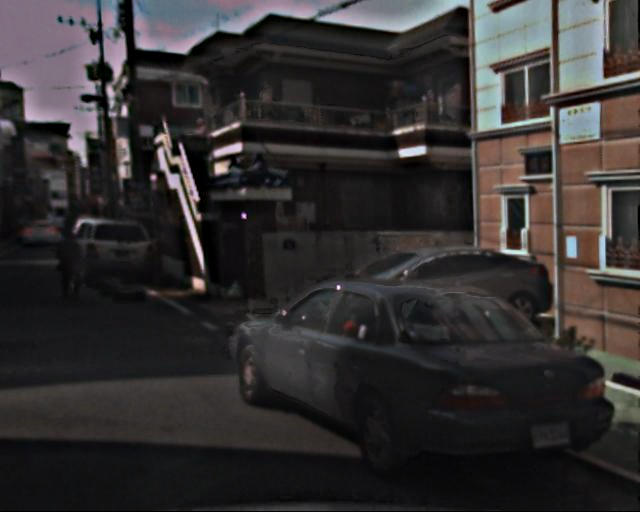person: (58, 226, 89, 301)
